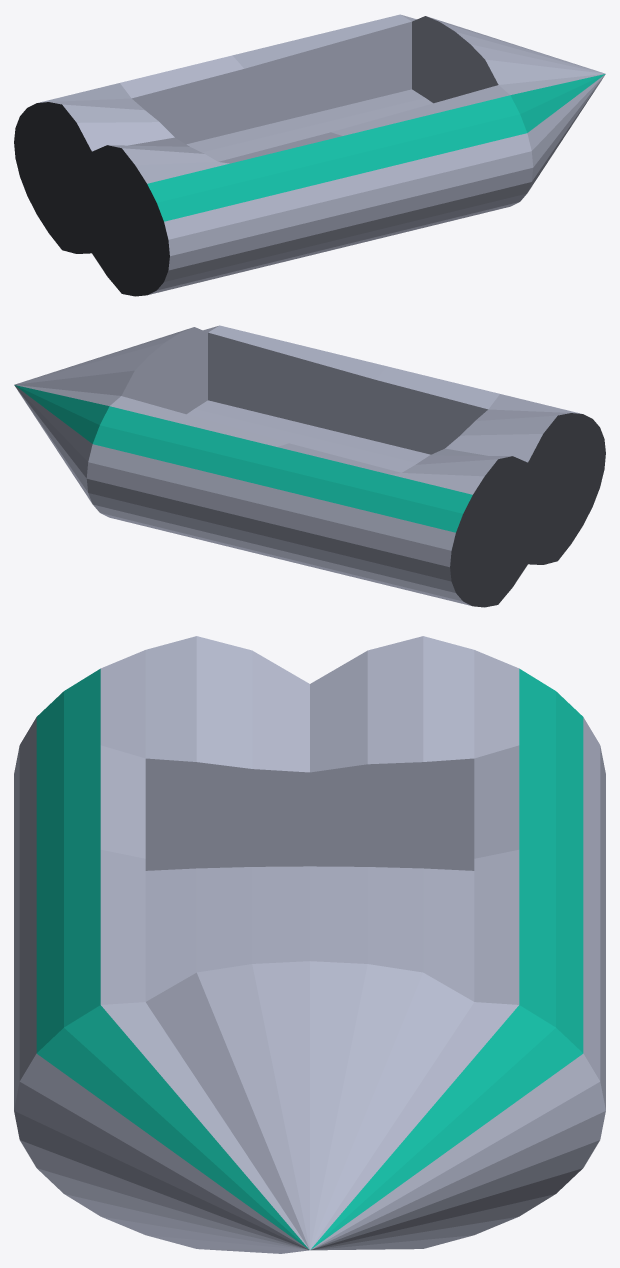
Rendered from fcfgray.glb.
3 renders of one model, top to bottom at view 1: azimuth 30°, elevation 25°; view 2: azimuth 150°, elevation 25°; view 3: azimuth 270°, elevation 25°, orthographic. The views are drawn at different scales.
Parts seen in each view (by area): view 1: gltf; view 2: gltf; view 3: gltf.
Part boxes in pixels (<box>): gltf: <box>14,14,605,296</box>; gltf: <box>14,325,605,607</box>; gltf: <box>14,636,605,1253</box>.
Bounding box in the file's own units: 6.82 × 1.92 × 3.59.
